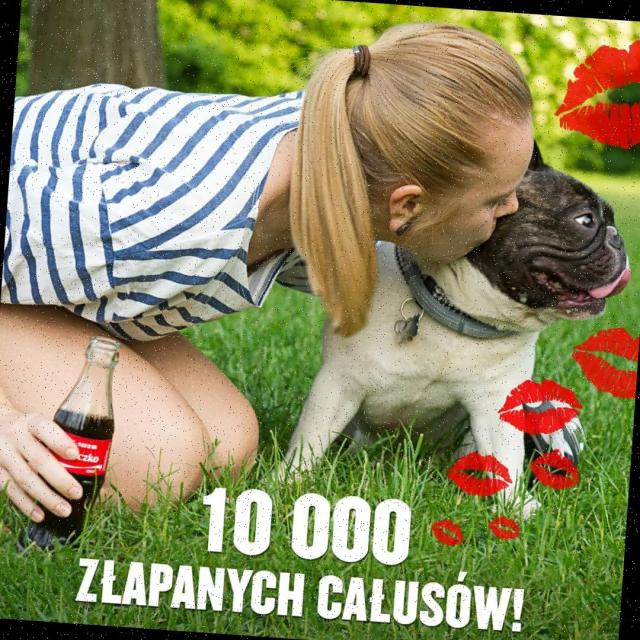coca-cola: (14, 330, 124, 564)
